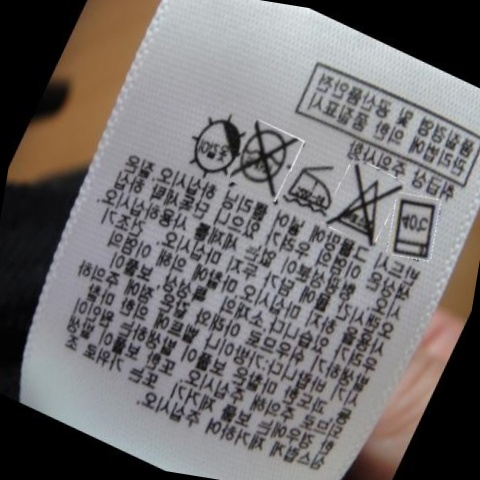40C: (387, 194, 445, 264)
DN_dry_clean: (238, 115, 294, 195)
iron_low: (285, 158, 339, 217)
line_dry_in_shade: (184, 107, 244, 180)
non_chlorine_bleach: (331, 159, 398, 245)
